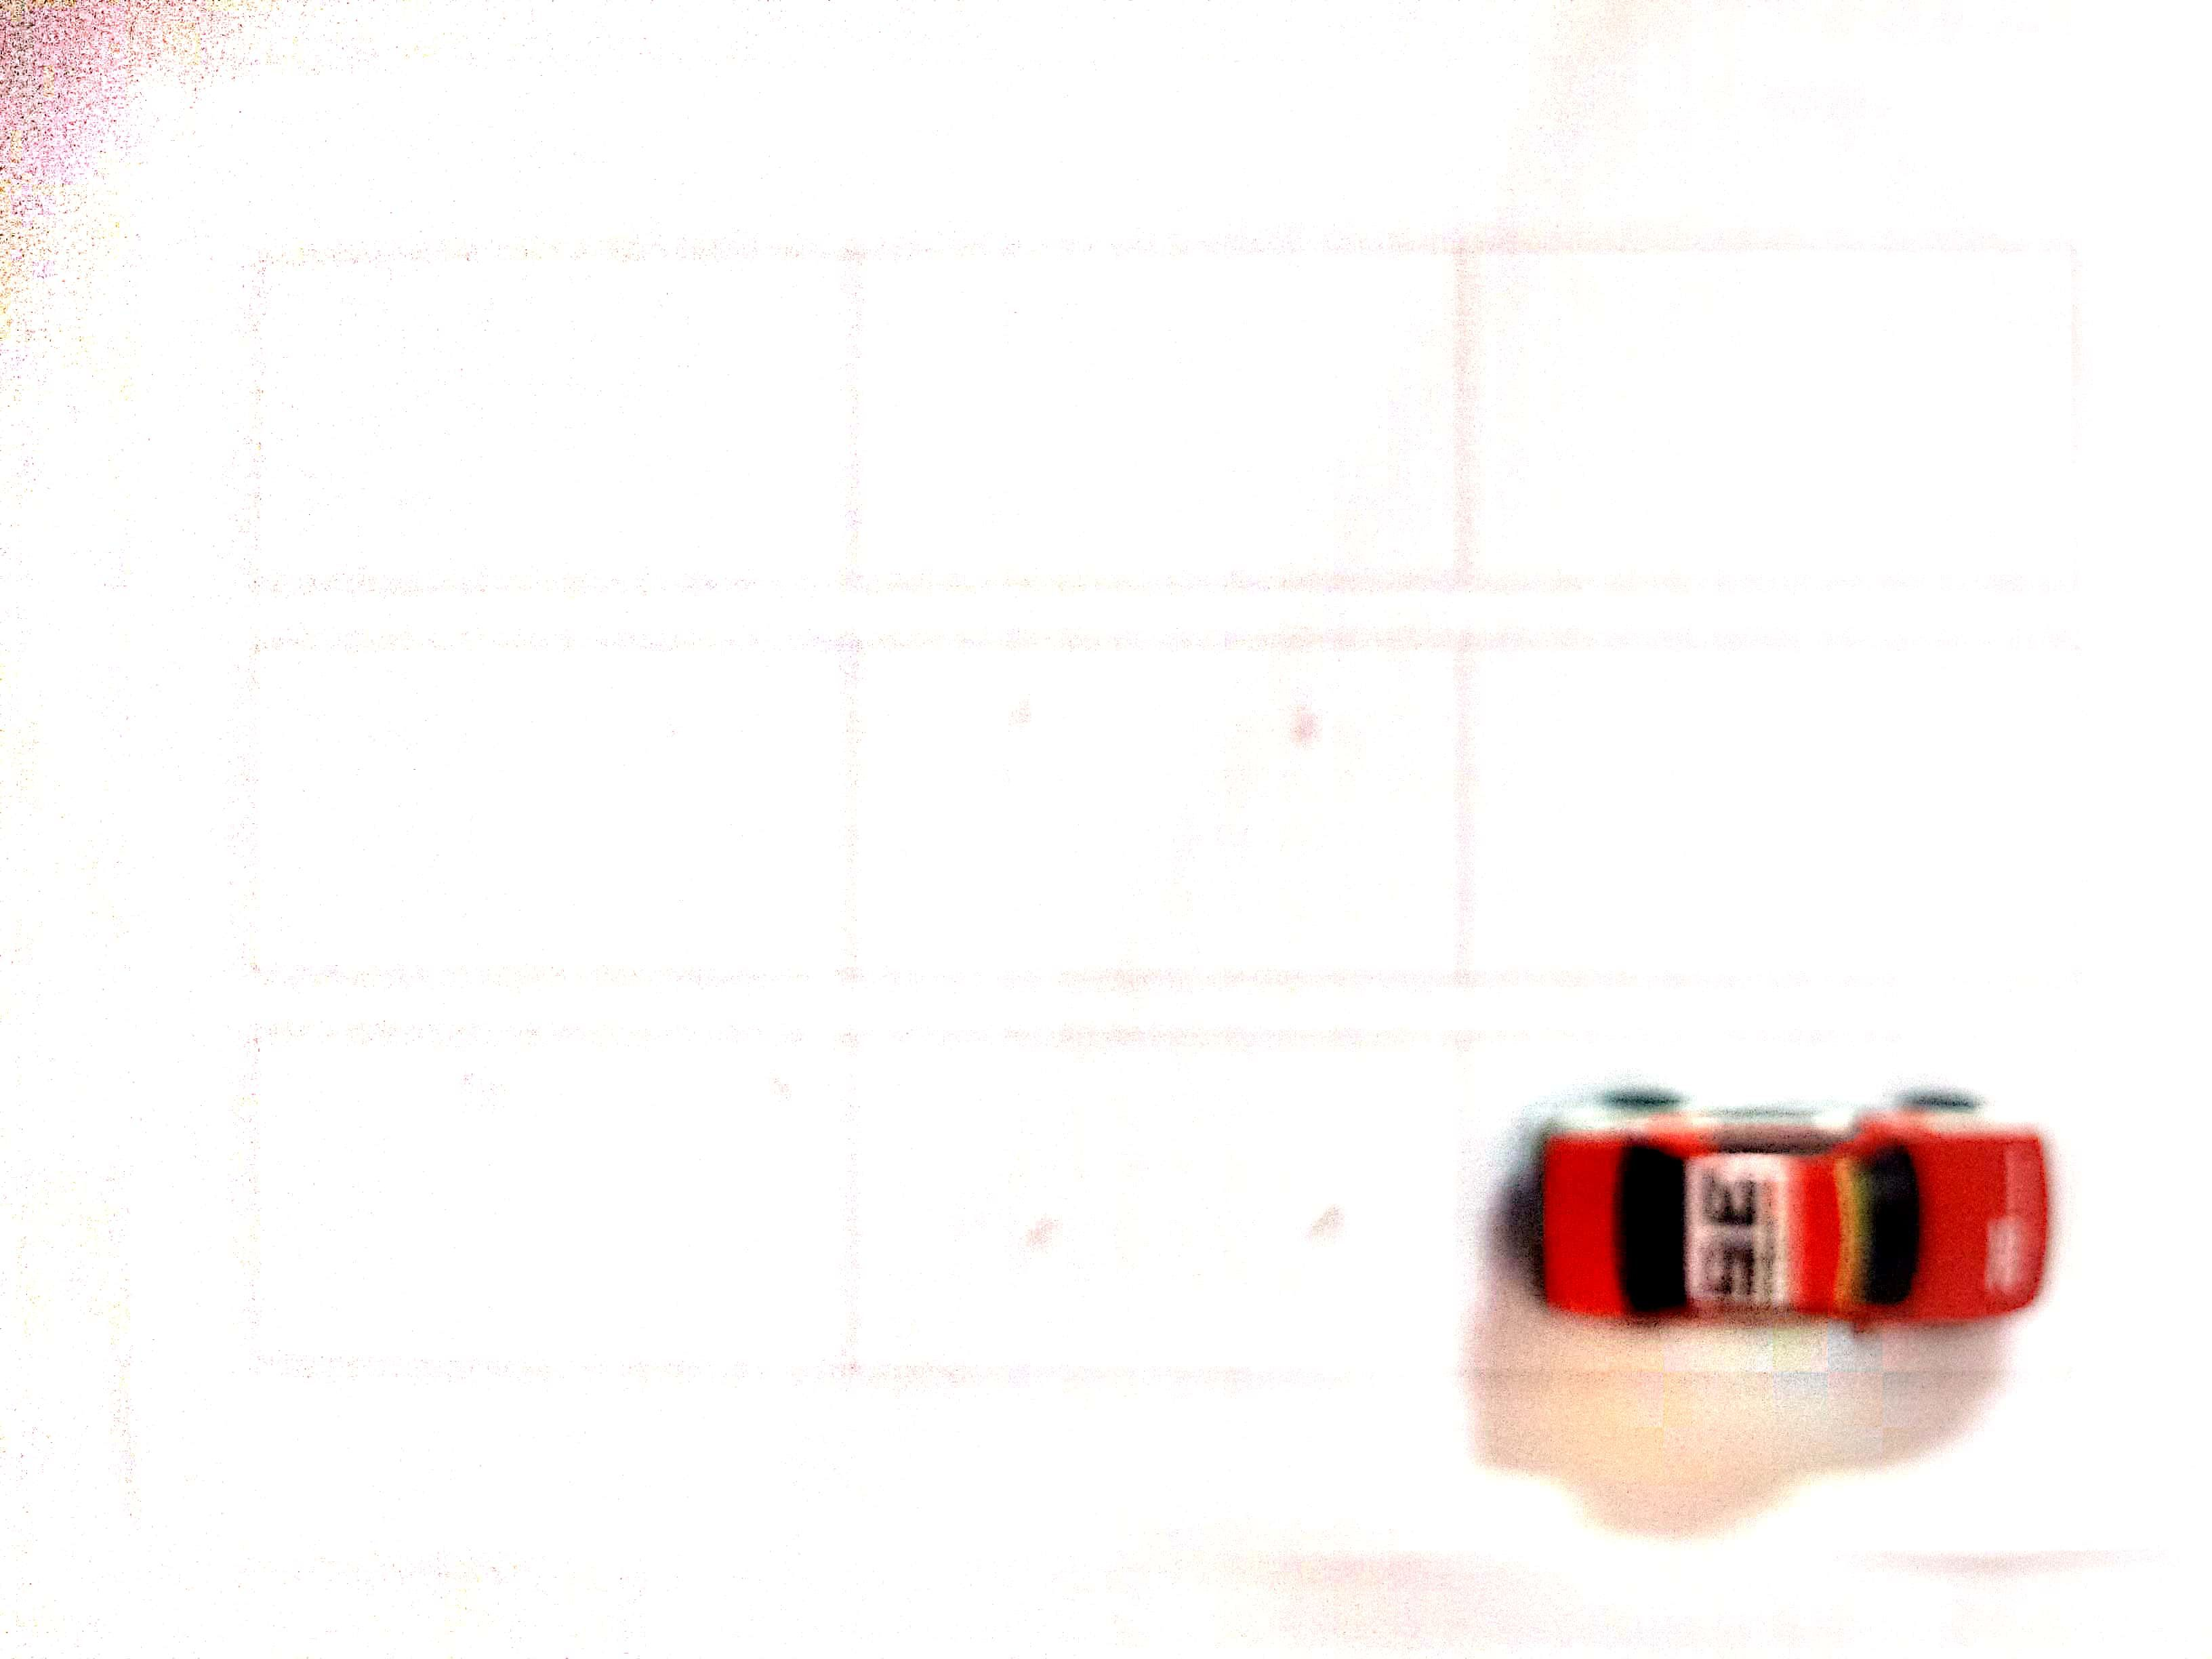Busy: (1454, 1019, 2064, 1370)
Free: (261, 1018, 845, 1366), (853, 1026, 1458, 1363), (853, 254, 1470, 575), (848, 650, 1458, 972), (1460, 650, 2045, 979), (256, 650, 852, 971), (1475, 246, 2055, 572), (253, 263, 852, 575)
